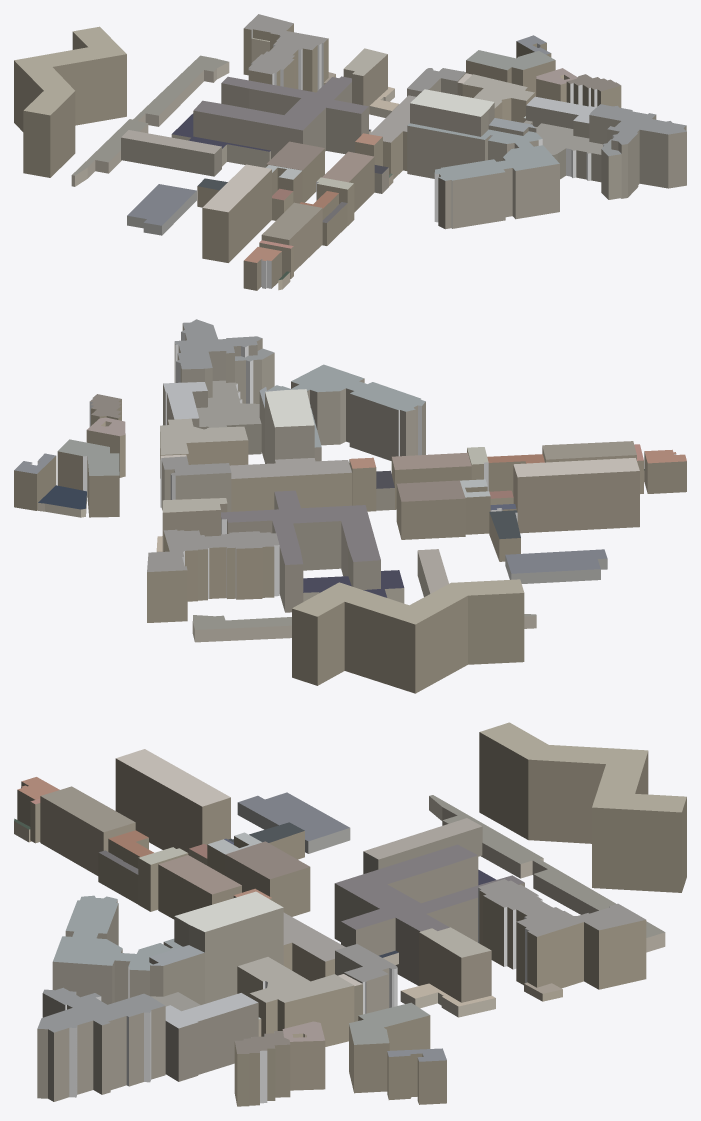
3 renders of one model, top to bottom at view 1: azimuth 30°, elevation 25°; view 2: azimuth 150°, elevation 25°; view 3: azimuth 270°, elevation 25°, orthographic. The views are drawn at different scales.
Parts seen in each view (by area): view 1: tuile; view 2: tuile; view 3: tuile.
Boxes of the visible parts, x1,y1,x2,y2 form: tuile: [14, 14, 686, 290]; tuile: [14, 319, 686, 693]; tuile: [14, 722, 686, 1106].
Bounding box in the file's own units: 285 × 41.2 × 262.
